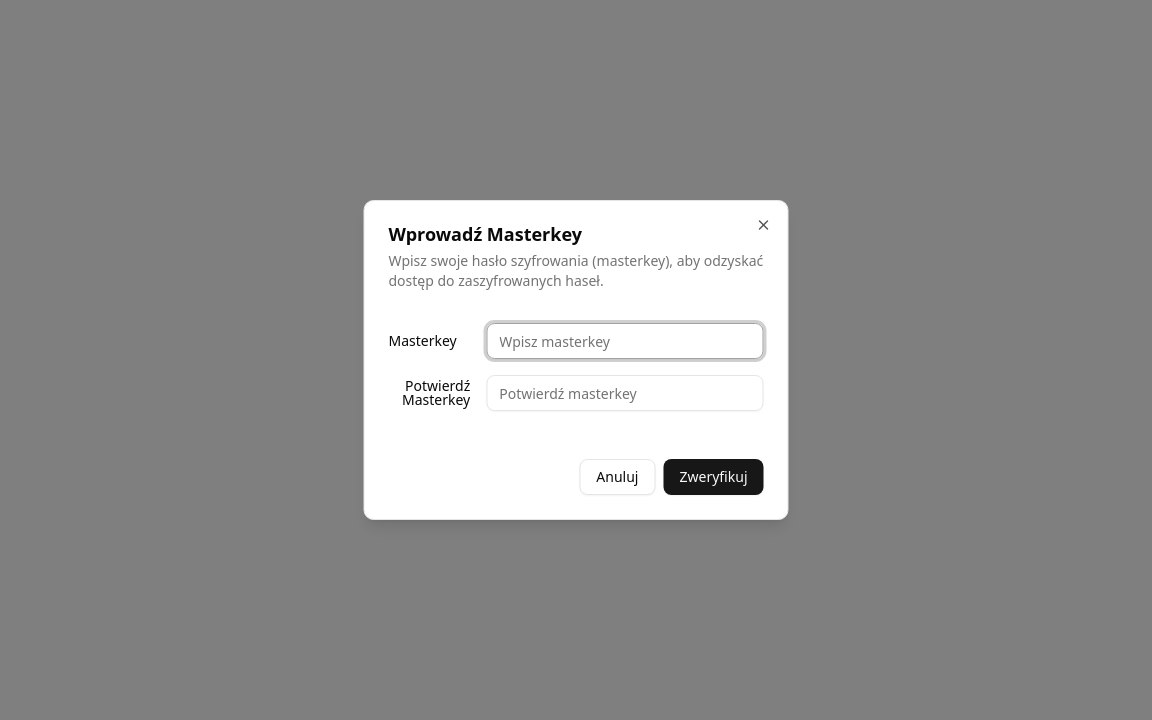
Scenario: Komponent RecoverMasterkeyDialog › wyświetla błąd walidacji, gdy pola są puste
The image size is (1152, 720).
Click the button "Zweryfikuj": x=714, y=477 [664, 459, 764, 495]
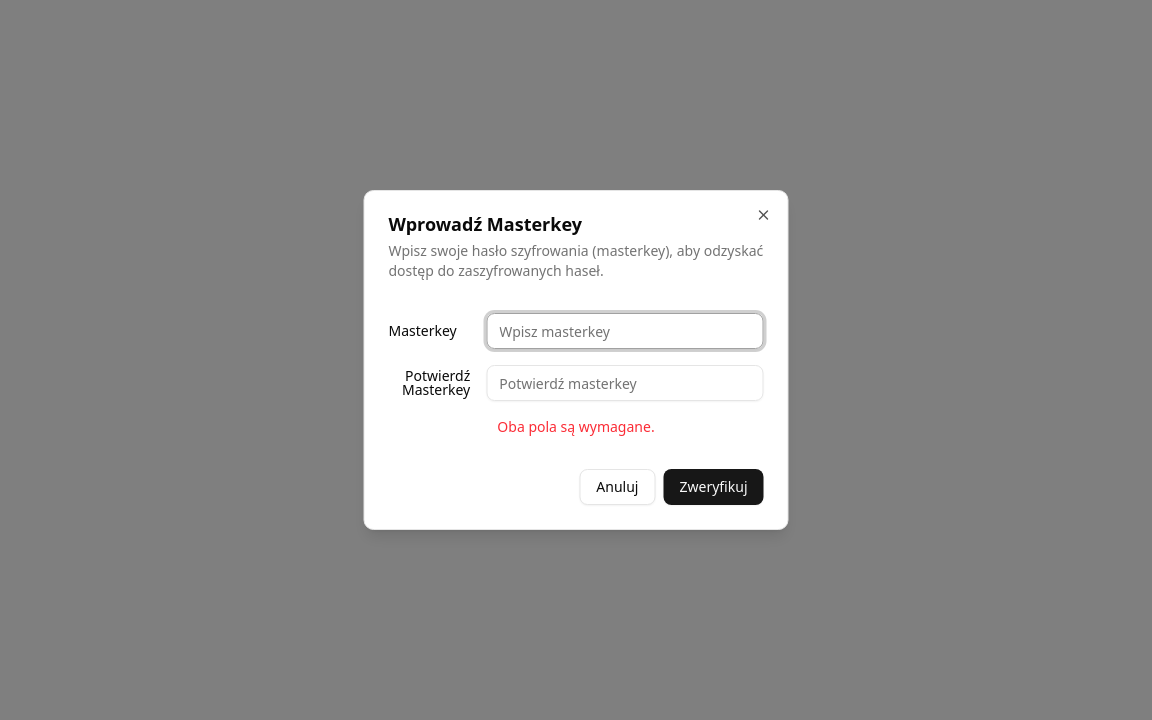
Result: the text "Oba pola są wymagane." is shown at [497, 417, 655, 436]
